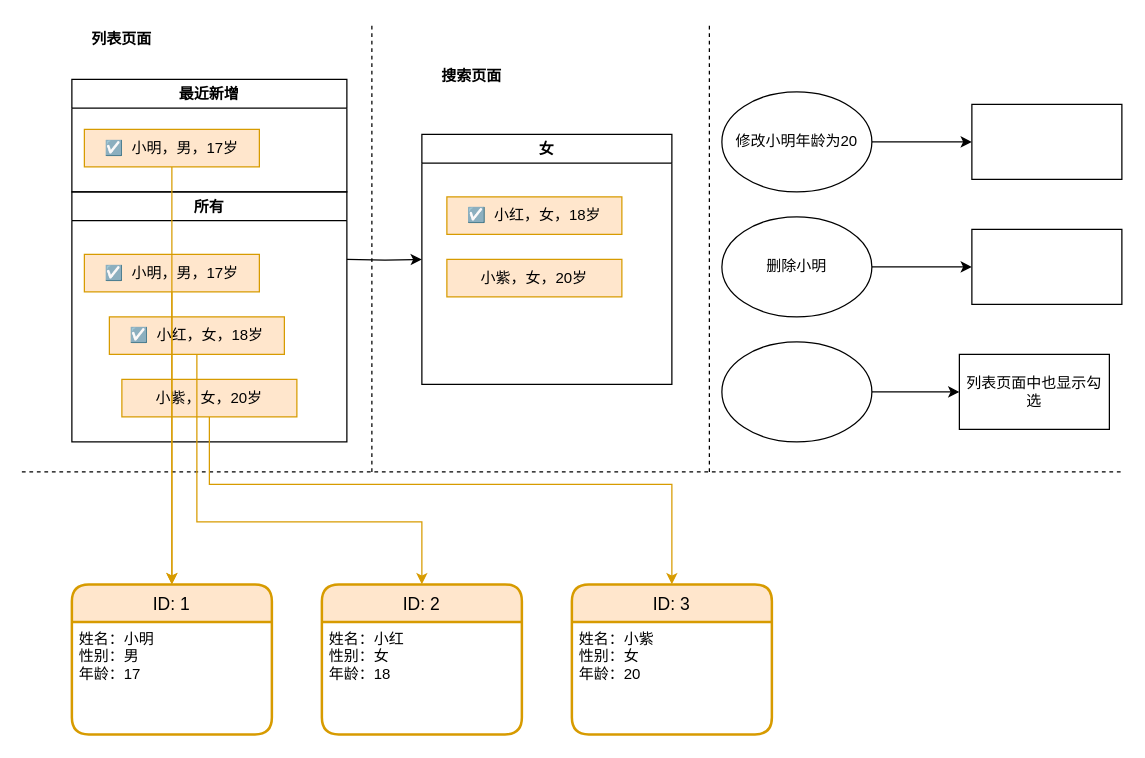
This 1145x758 diagram has some shape labels left out. Here are the shapes that lost their labels. From the top down, the centre of each, then its label:
At (1046,141): "1. 所有列表中的小明年龄都变化 2. 勾选的数据列表中也变化".
At (1046,266): "所有列表中，小明都被 勾选的列表也移除".
At (796,391): "在搜索框中勾选小紫".
